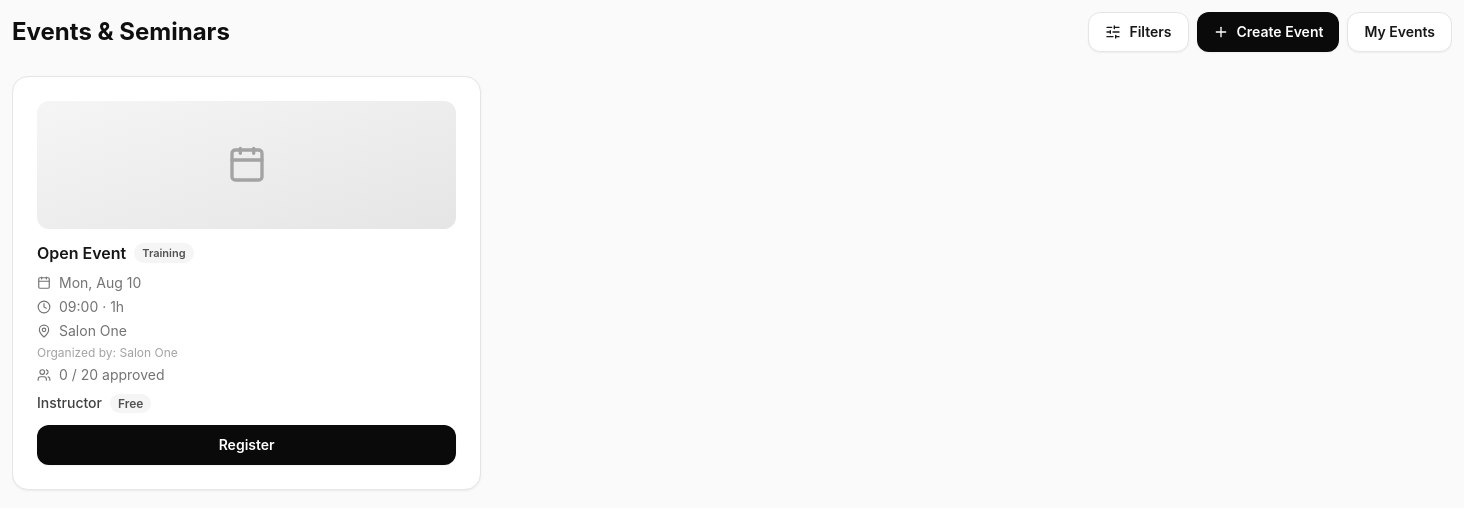
Test: EventsPage › routes failed card registrations to the page-level notification layer and keeps modal state clear
Click the button "Register" at (247, 445), box x1=37 y1=425 x2=456 y2=465
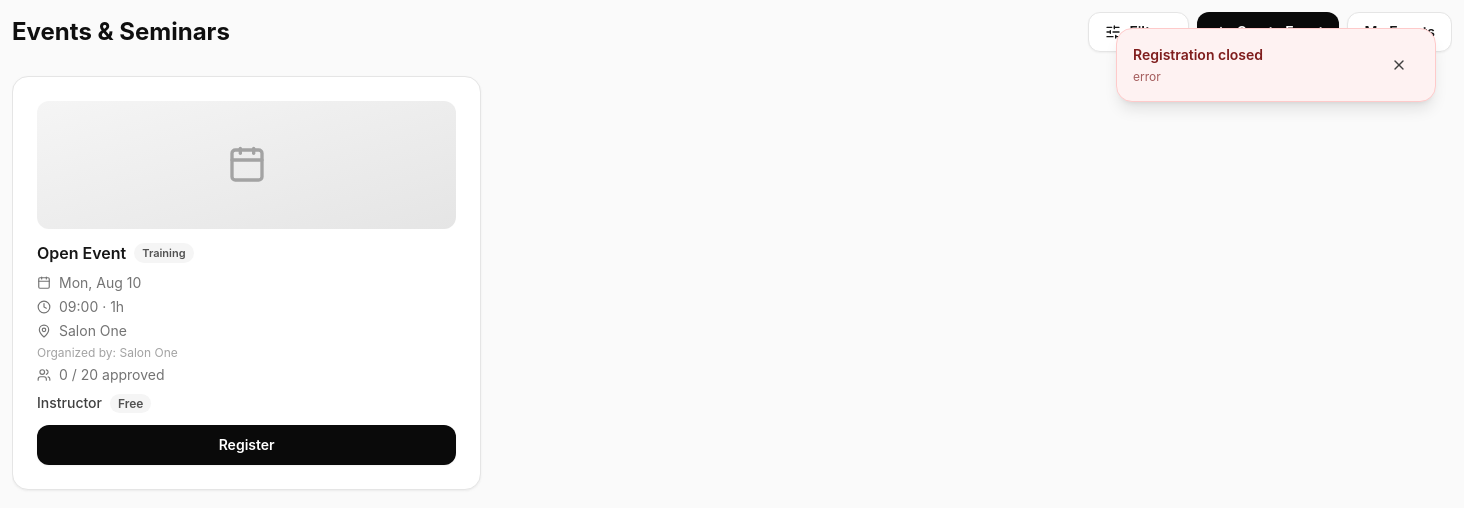
Result: the text "Registration closed" is shown at x1=1133 y1=45 x2=1263 y2=65
